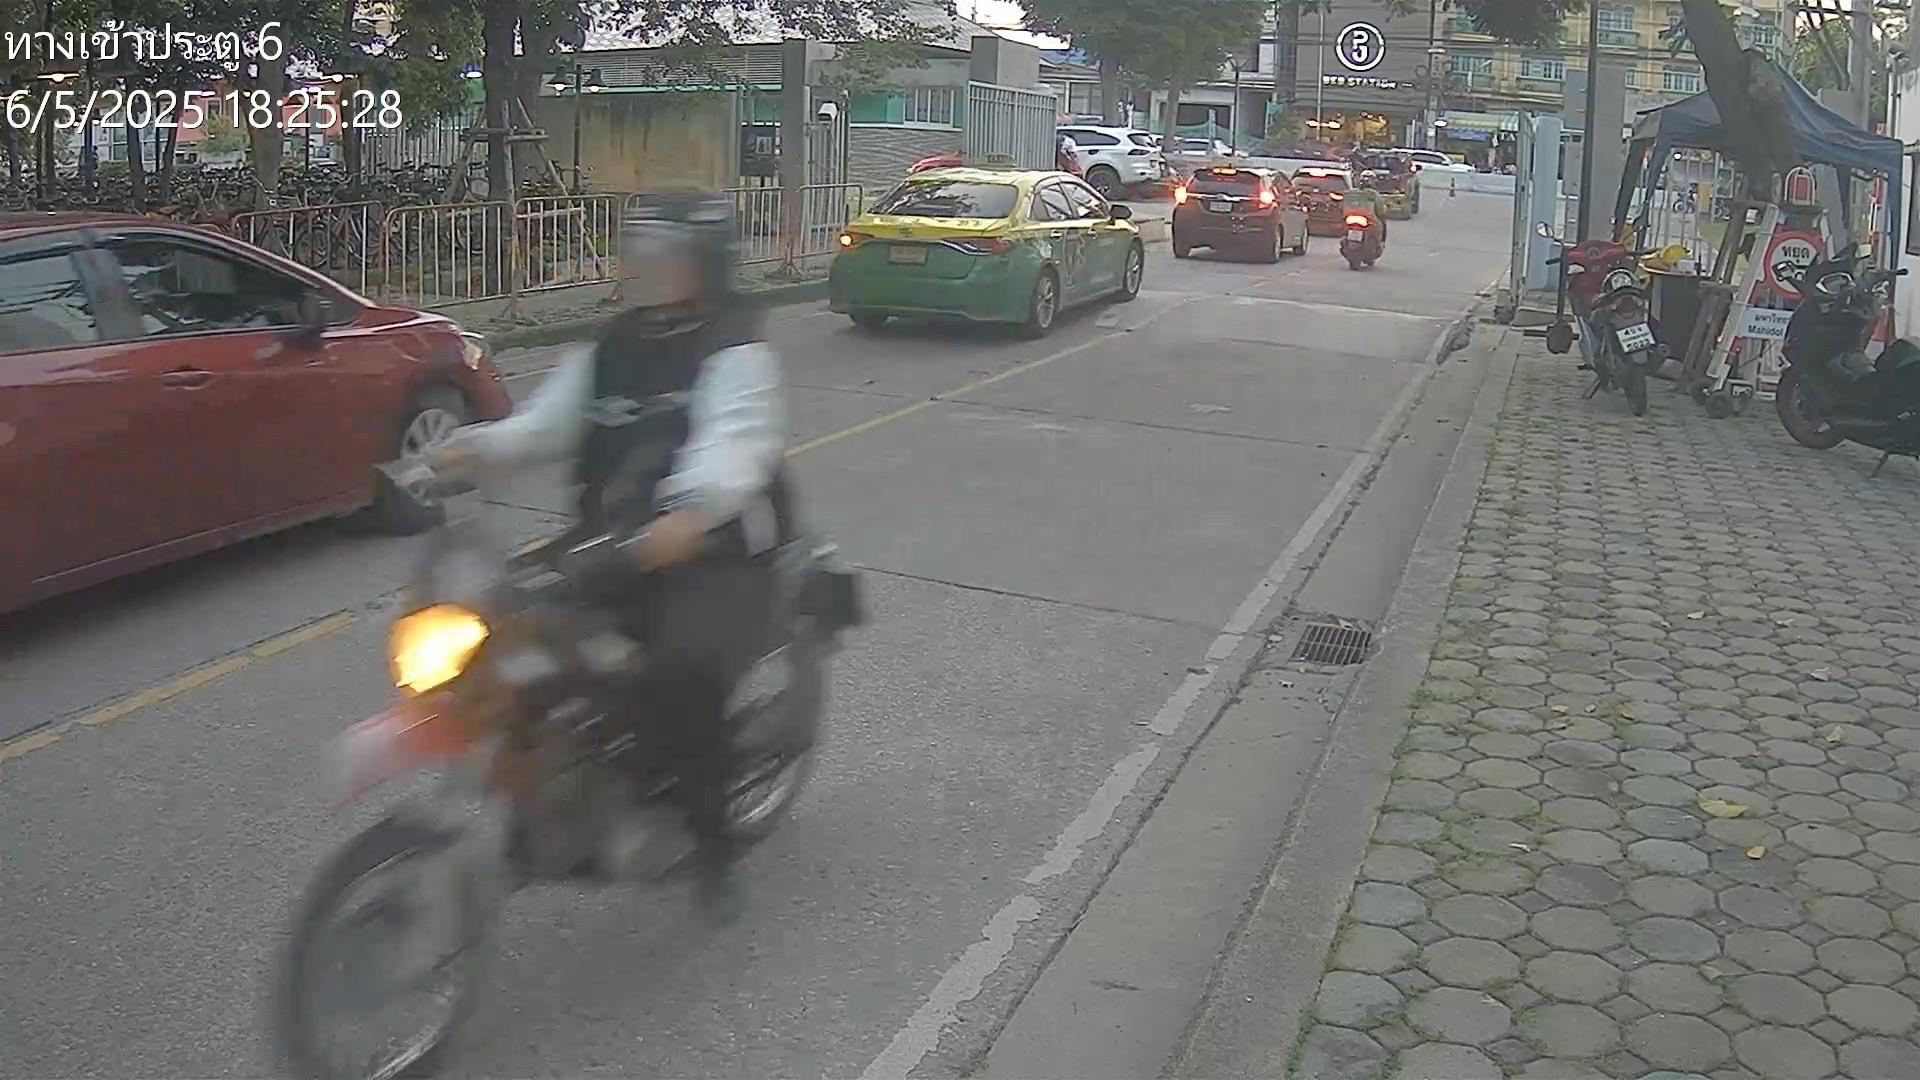With-Helmet: (611, 178, 748, 342)
